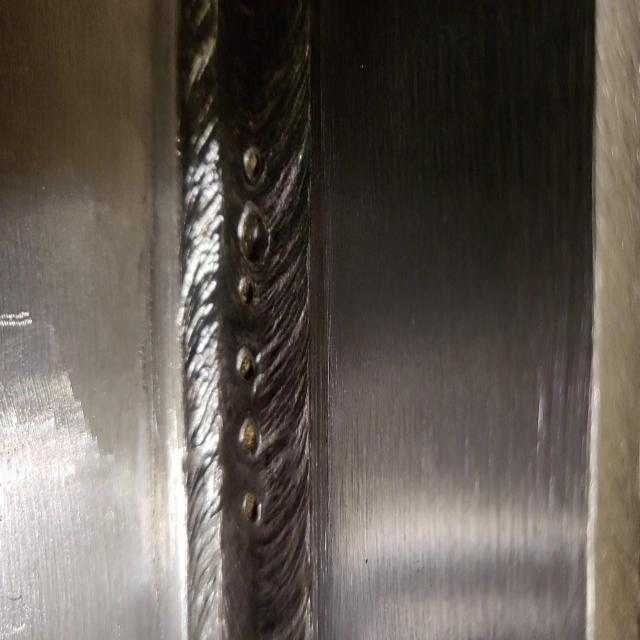Welding Line: (179, 7, 301, 640)
Workpiece: (1, 2, 640, 640)
porosity: (235, 145, 270, 531)
